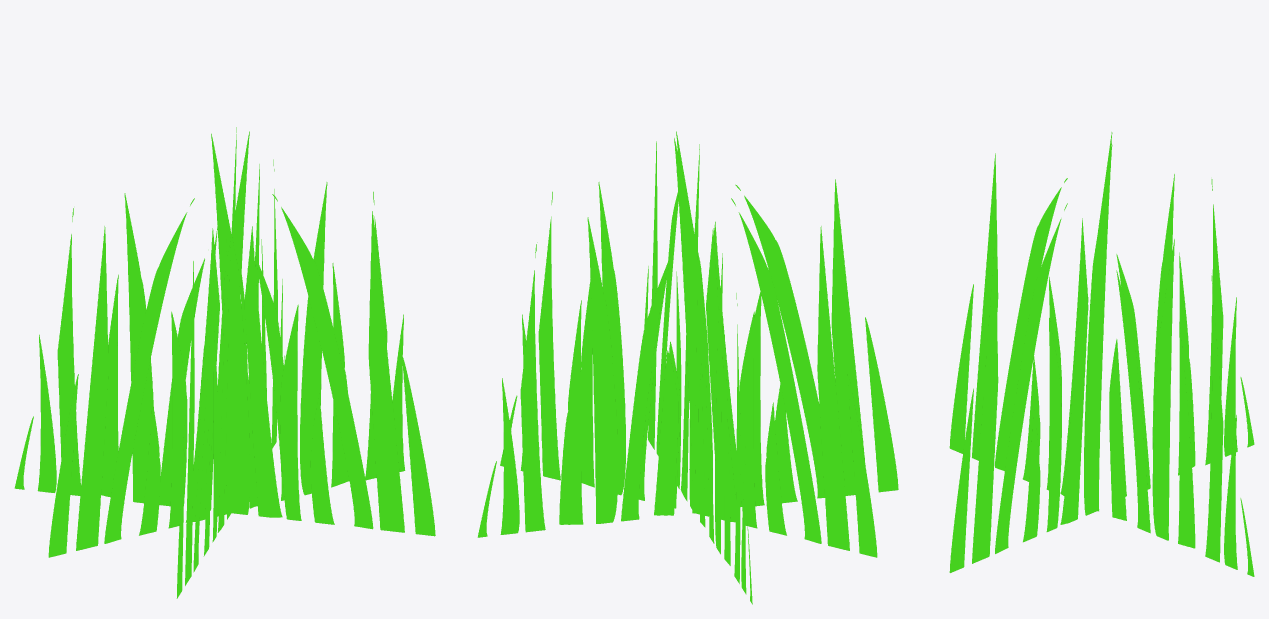
File: Grass.fbx
The picture shows the model from 3 angles, left to right: view 1: azimuth 30°, elevation 25°; view 2: azimuth 150°, elevation 25°; view 3: azimuth 270°, elevation 25°; orthographic projection.
Parts seen in each view (by area): view 1: Grass; view 2: Grass; view 3: Grass.
Boxes of the visible parts, bbox=[...] form: Grass: bbox=[14, 127, 435, 598]; Grass: bbox=[477, 131, 898, 604]; Grass: bbox=[949, 132, 1254, 576].
Bounding box in the file's own units: 200 × 200 × 141.
